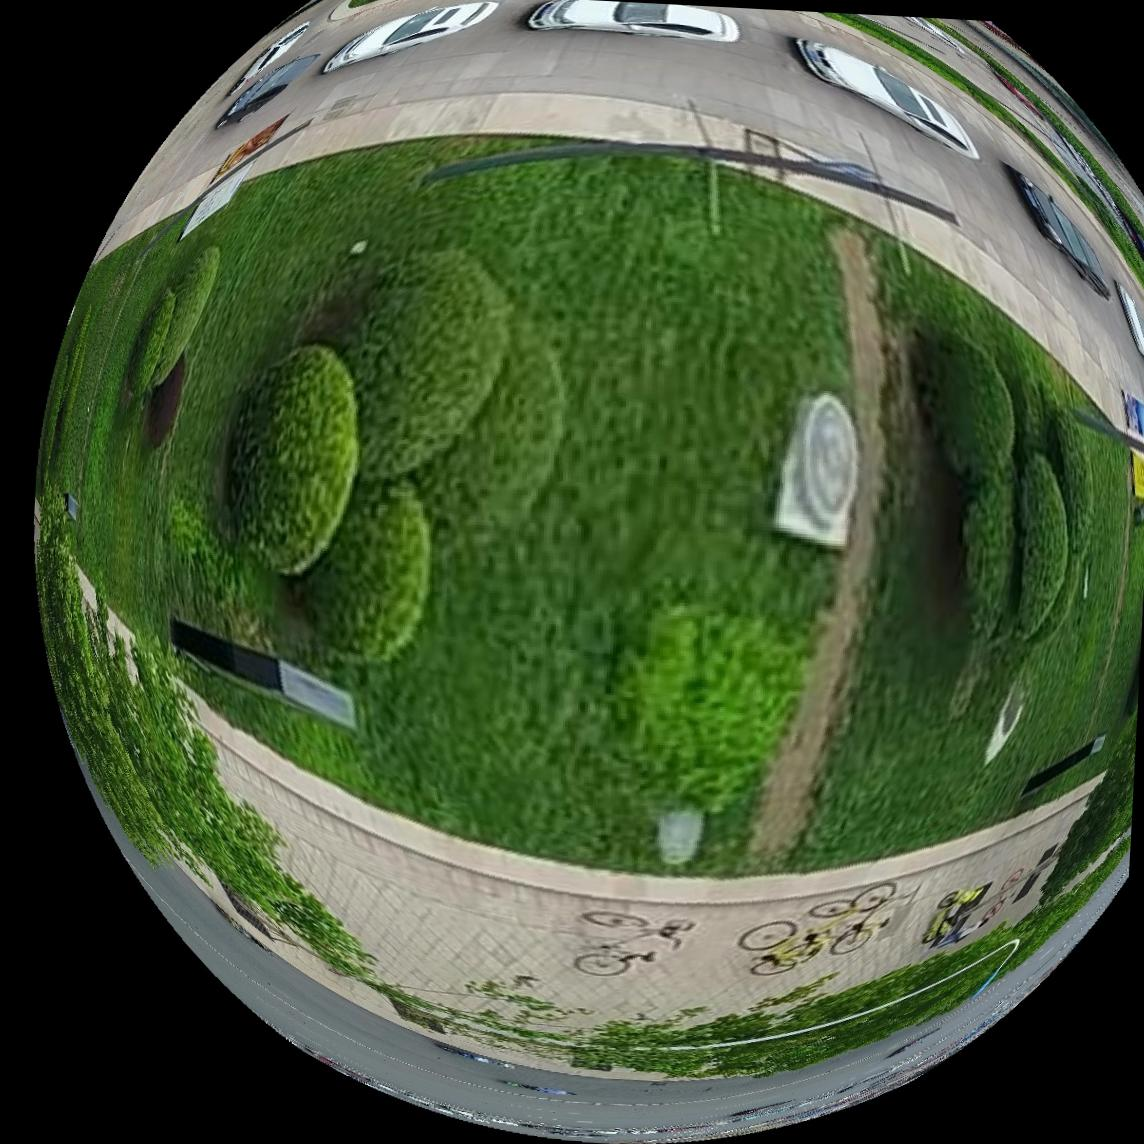cars: (795, 37, 980, 157), (1008, 166, 1112, 299), (320, 0, 496, 71), (527, 0, 739, 40), (214, 52, 314, 126), (226, 19, 309, 93), (1117, 281, 1144, 358)
trees: (37, 498, 370, 978), (610, 601, 808, 813), (340, 248, 510, 476), (409, 317, 565, 530), (228, 345, 356, 574), (292, 480, 428, 660), (1031, 411, 1095, 643), (918, 330, 1015, 482), (1016, 453, 1070, 639), (148, 245, 217, 384), (962, 468, 1016, 638), (1052, 410, 1094, 559), (126, 288, 173, 395), (144, 357, 182, 448)
